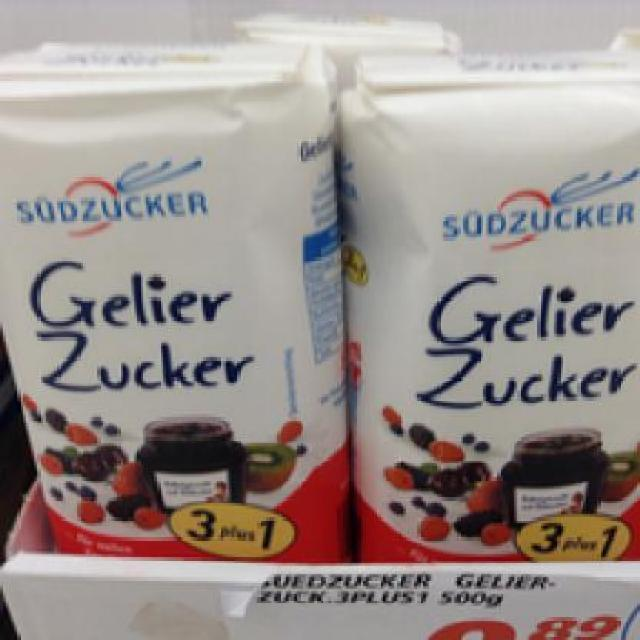Sugar: (0, 39, 340, 555), (334, 48, 637, 566)
